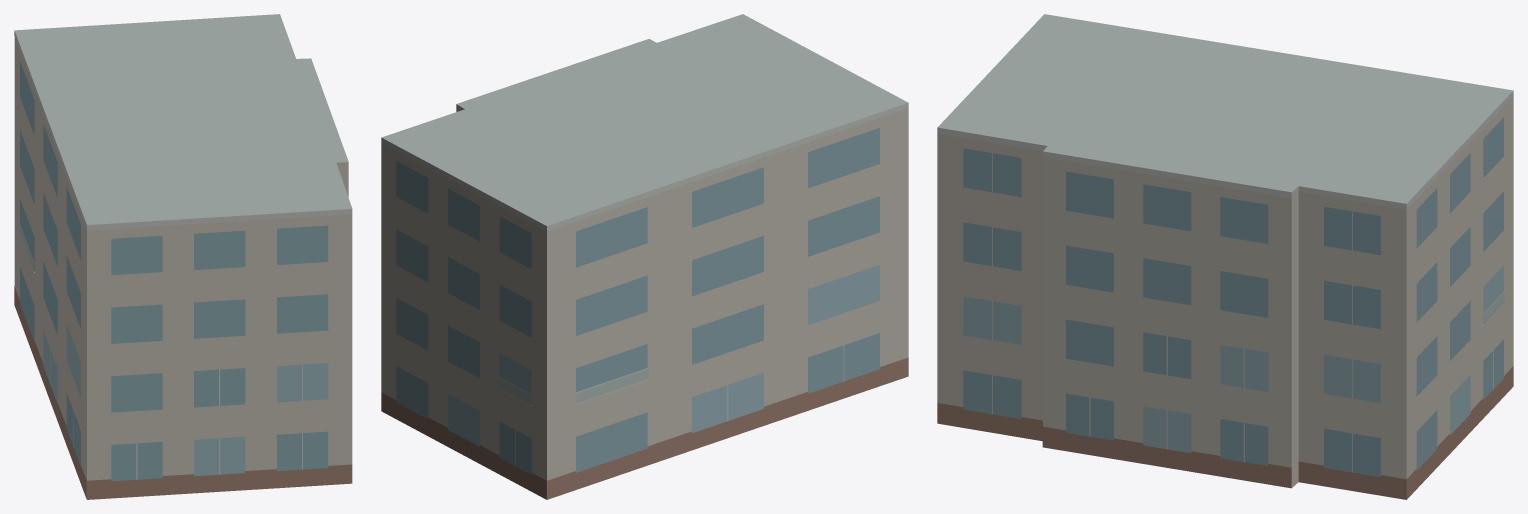
The model's file is survey-upis-32692216.glb.
3 renders of one model, left to right at view 1: azimuth 30°, elevation 25°; view 2: azimuth 150°, elevation 25°; view 3: azimuth 270°, elevation 25°, orthographic. The views are drawn at different scales.
Parts seen in each view (by area): view 1: survey-upis-32692216.tmp; view 2: survey-upis-32692216.tmp; view 3: survey-upis-32692216.tmp.
Part boxes in pixels (x1,y1,x2,y2): survey-upis-32692216.tmp: (14, 14, 352, 499); survey-upis-32692216.tmp: (381, 14, 908, 499); survey-upis-32692216.tmp: (937, 14, 1513, 499).
Bounding box in the file's own units: 16.79 × 12.2 × 21.53.
